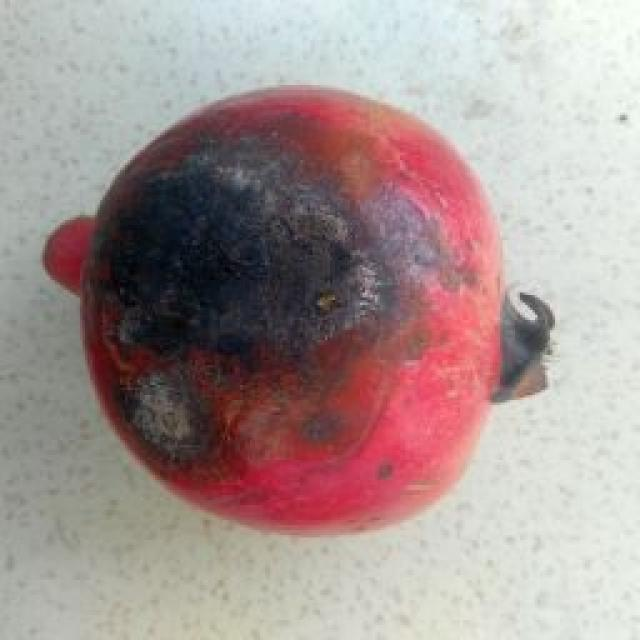Rotten: (39, 77, 559, 539)
